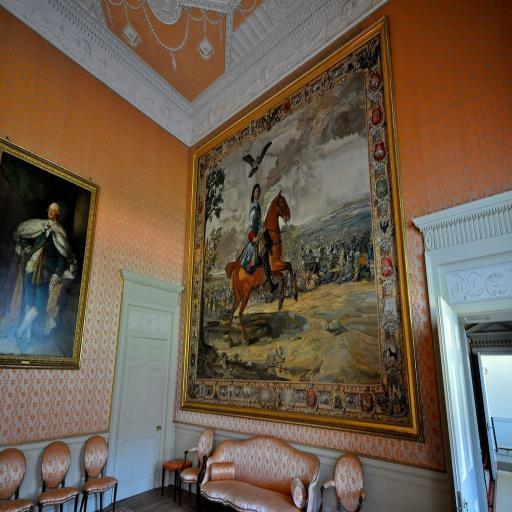horse: (224, 188, 298, 347)
